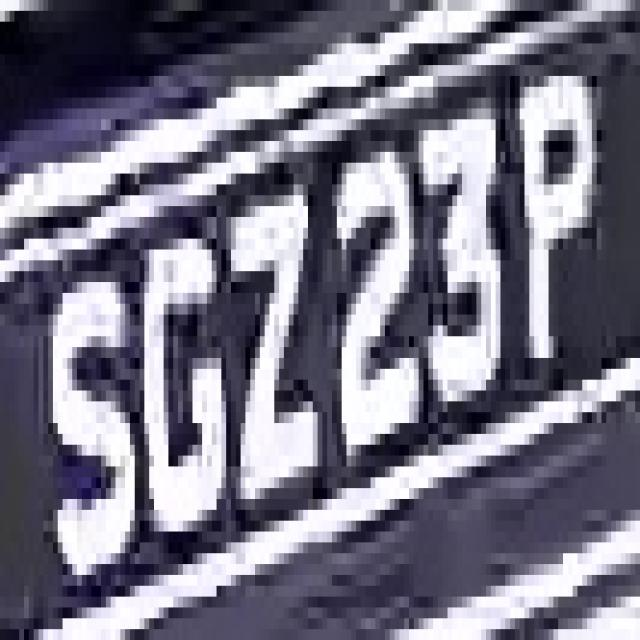2: (317, 98, 423, 477)
3: (414, 76, 524, 445)
G: (140, 195, 236, 564)
P: (501, 32, 606, 380)
S: (34, 261, 140, 618)
Z: (207, 162, 327, 520)
